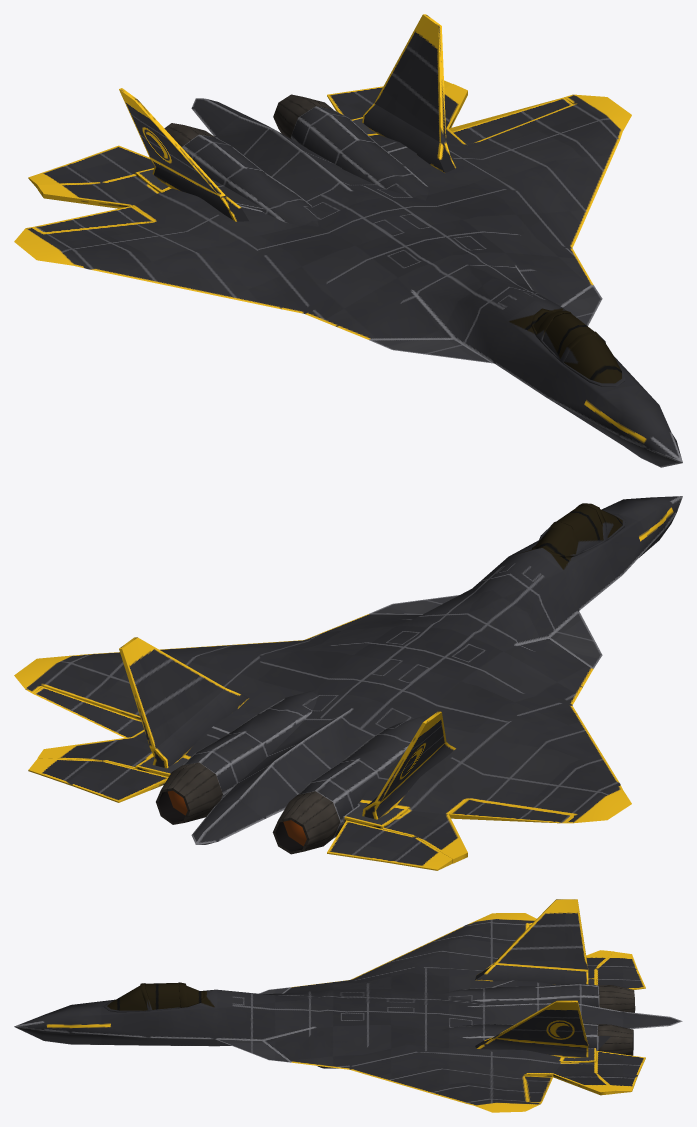
Rendered from ACO_Shade.fbx.
3 views of the same model, one above another, from view 1: azimuth 30°, elevation 25°; view 2: azimuth 150°, elevation 25°; view 3: azimuth 270°, elevation 25° (orthographic). The views are drawn at different scales.
Parts seen in each view (by area): view 1: ACO_Shade; view 2: ACO_Shade; view 3: ACO_Shade.
Part boxes in pixels (x1,y1,x2,y2): ACO_Shade: (14,14,682,467); ACO_Shade: (14,496,682,870); ACO_Shade: (14,899,682,1112).
Size of the model in its own units: 1221 by 284 by 1730.
1 material, 1 textured.
